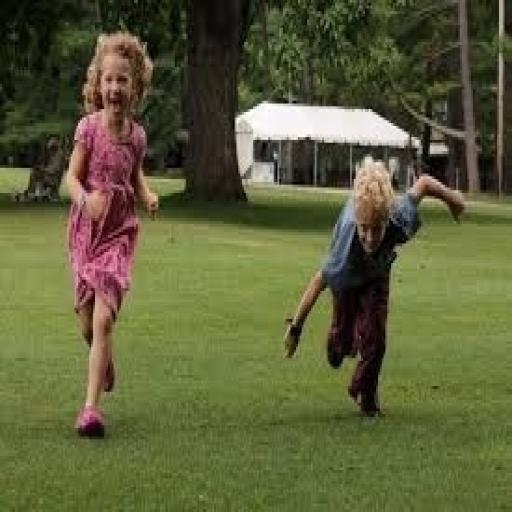running: (281, 154, 469, 422), (63, 28, 162, 439)
